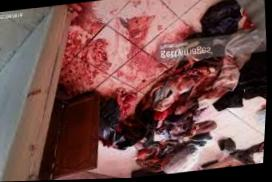Fire: (102, 57, 240, 172), (60, 1, 112, 97), (118, 17, 168, 90), (151, 66, 213, 112), (200, 56, 241, 110), (190, 58, 224, 99), (117, 88, 139, 120), (162, 28, 195, 43)
